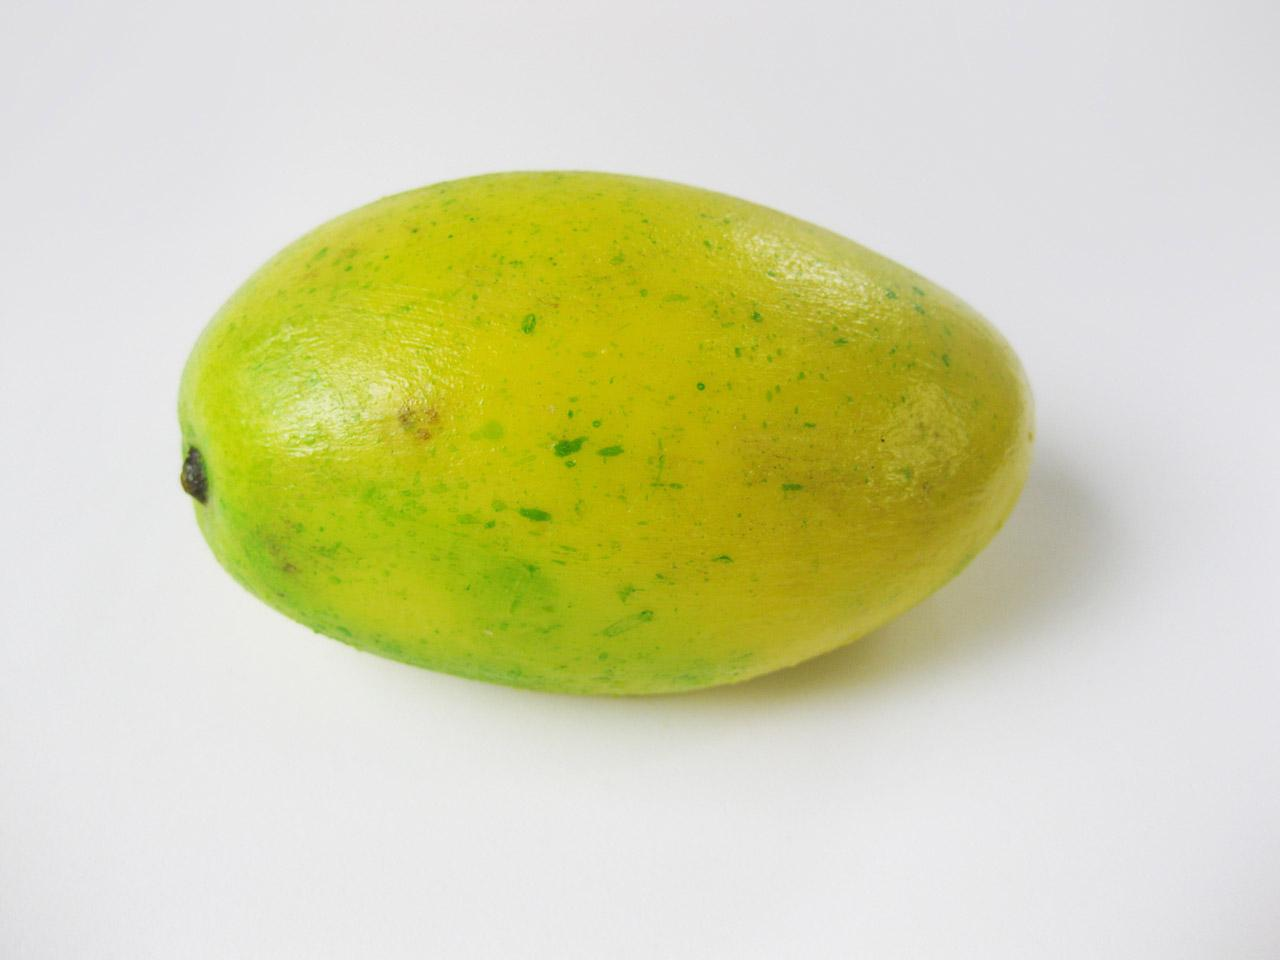mango: (160, 165, 1104, 728)
